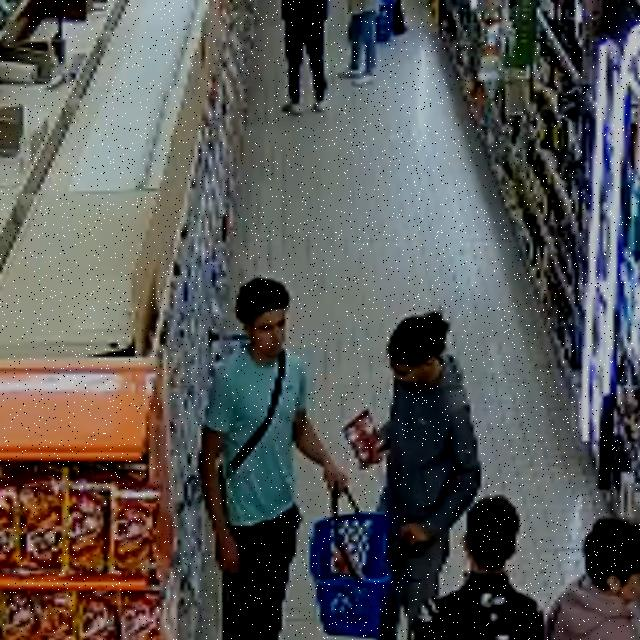article: (343, 408, 389, 469)
bags: (219, 350, 286, 505)
hands: (217, 532, 240, 575), (324, 460, 348, 494), (360, 441, 387, 469), (400, 523, 430, 546)
person: (202, 278, 346, 639), (379, 313, 480, 639), (414, 496, 544, 639), (547, 518, 639, 639), (283, 0, 328, 115), (342, 0, 379, 86)
